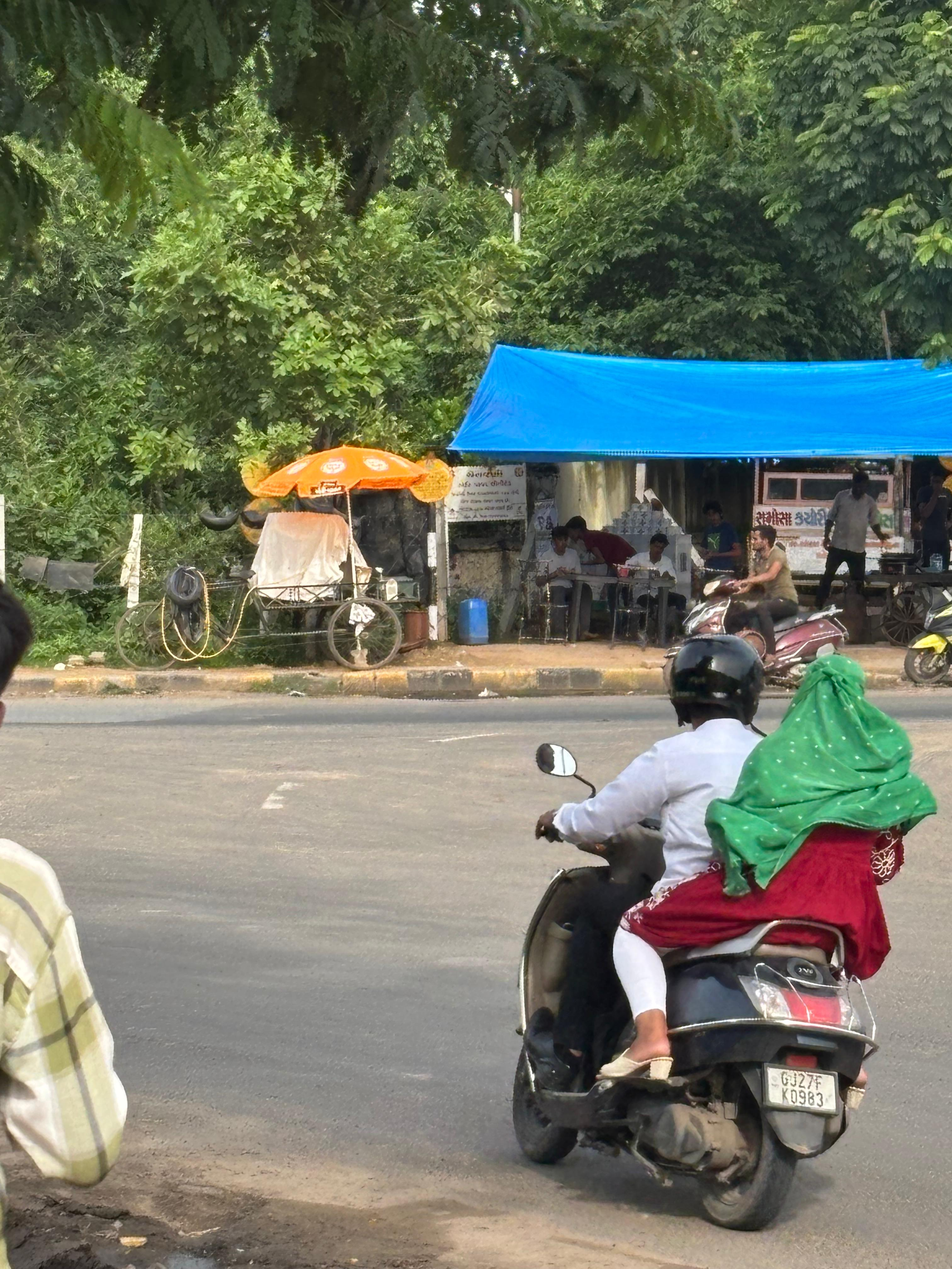BikeWithRider: (505, 633, 934, 1229), (662, 519, 848, 693)
Helmet: (660, 631, 761, 731)
NoHelmet: (791, 650, 875, 730), (744, 521, 778, 557)
